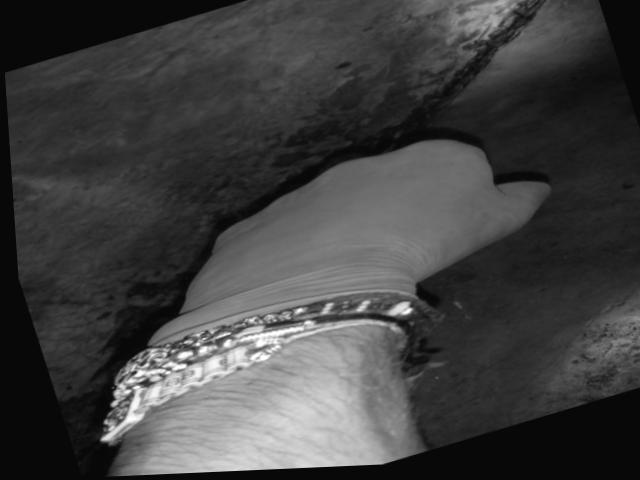Hand-in-Glove: (66, 86, 582, 378)
